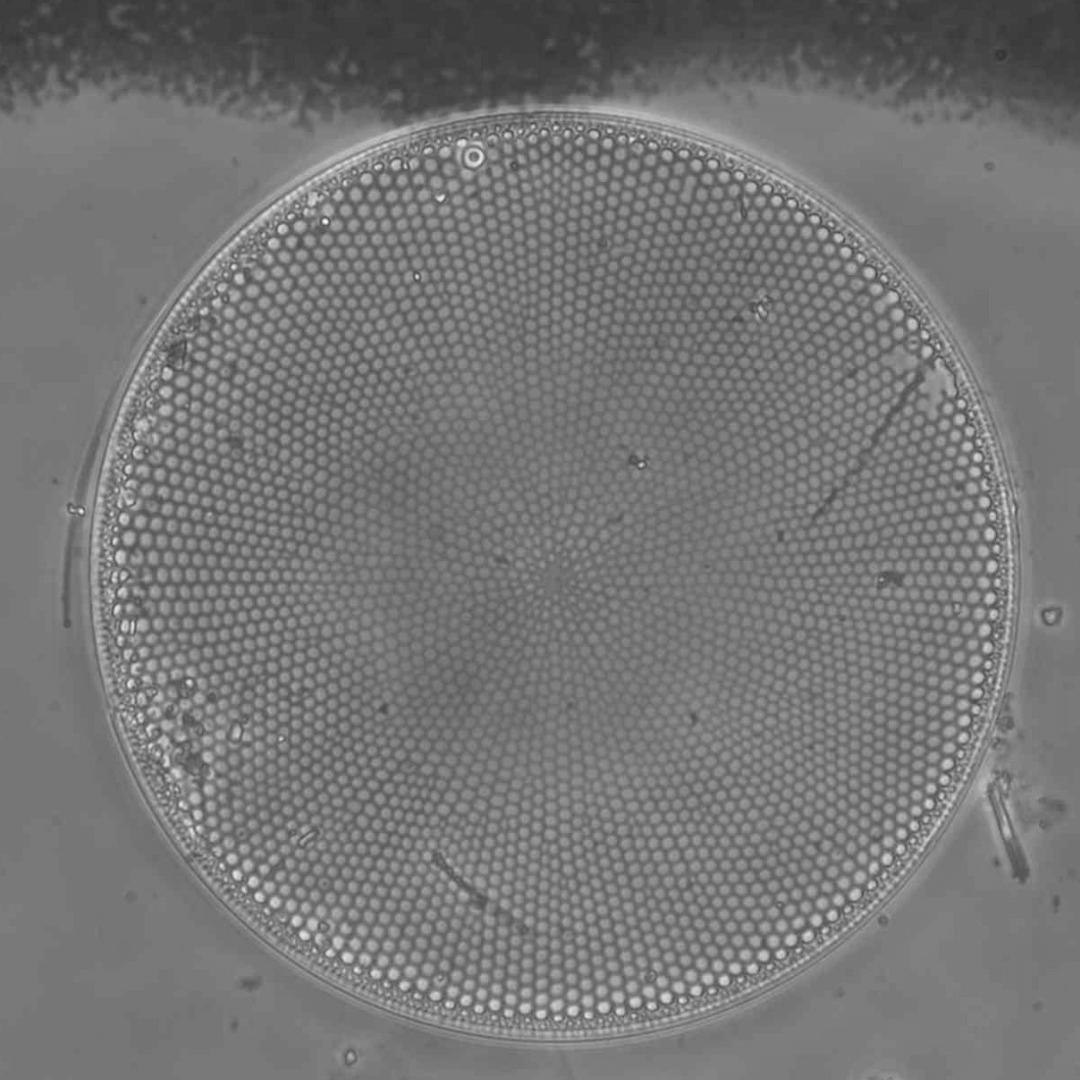coscinodiscus_oculus_iridis: (92, 117, 1013, 1040)
